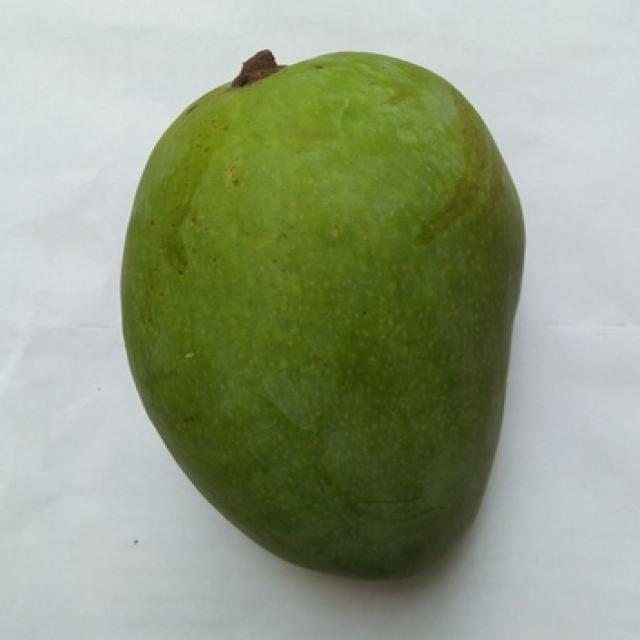Mango: (121, 52, 522, 575)
